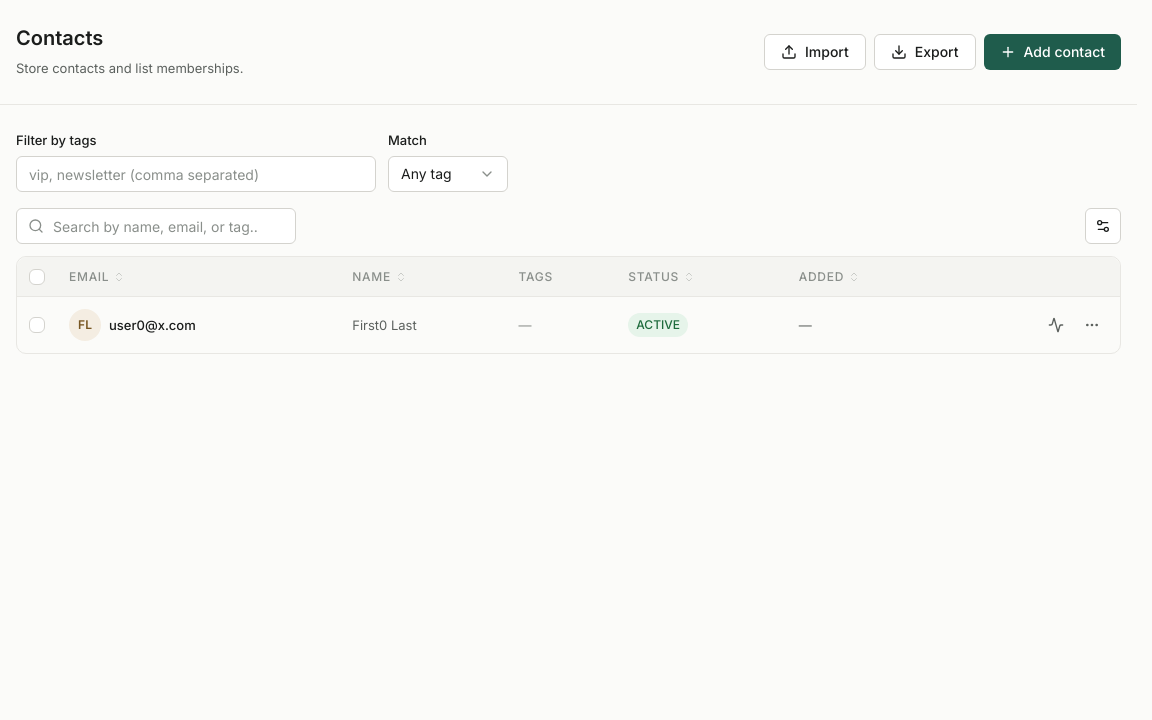
Contacts › opens the activity drawer for a contact
Expected: the text "user0@x.com" is shown, [109,316,196,334]
What coordinates should you click on to do the following:
click the button named "See what this person has done"
I would click on:
 (1056, 325)
Its box is [1040,309,1072,341].
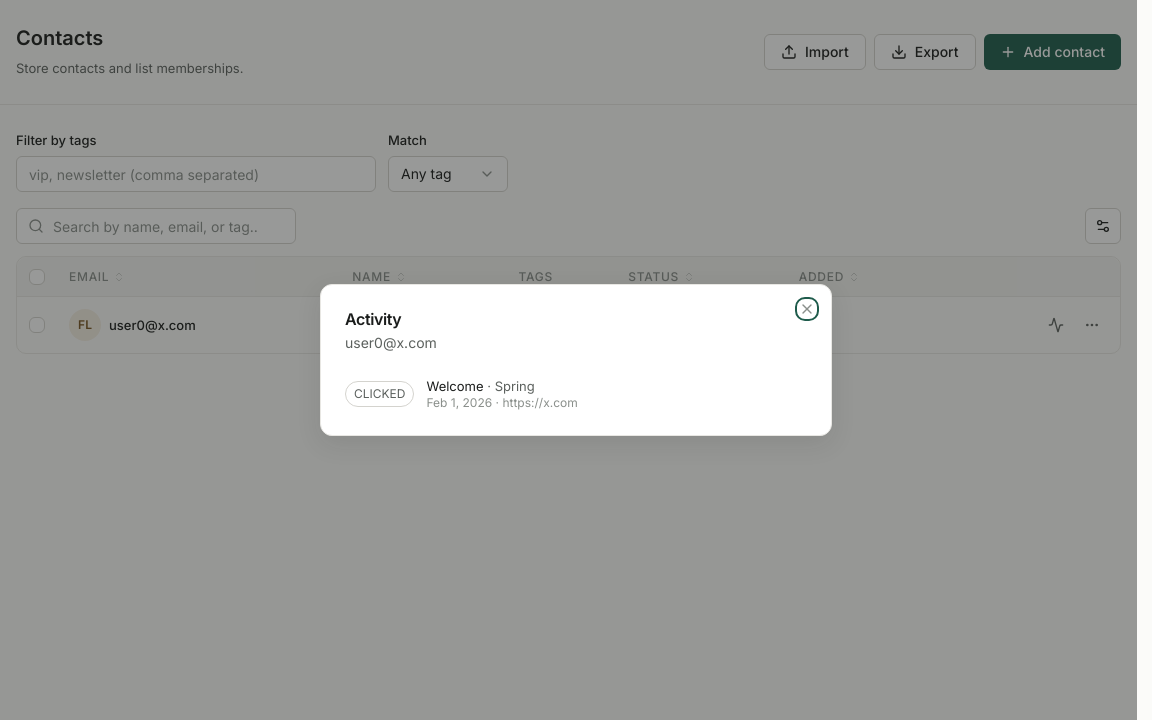
Expected: the text "Welcome" is shown, [426,378,484,394]
Expected: the text "CLICKED" is shown, [345,381,414,407]
